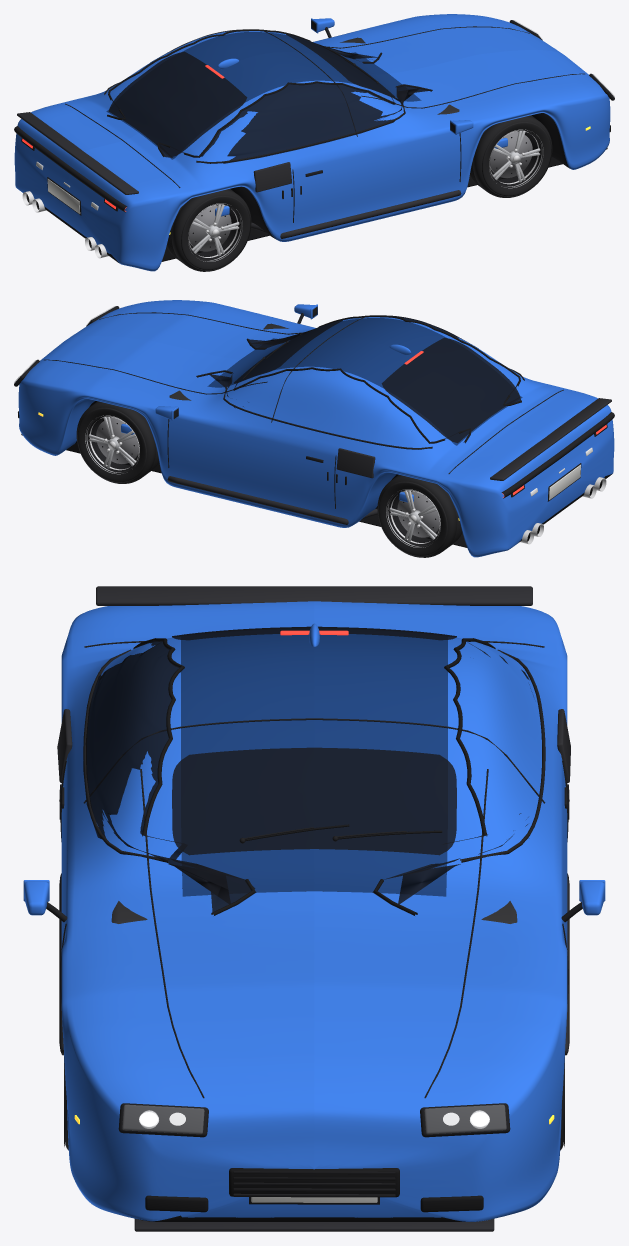
3 views of the same model, one above another, from view 1: azimuth 30°, elevation 25°; view 2: azimuth 150°, elevation 25°; view 3: azimuth 270°, elevation 25° (orthographic). The views are drawn at different scales.
Parts seen in each view (by area): view 1: body, glass_screen_1, glass_side_R, wheel_RR_tyre, wheel_FR_tyre, wing_lip, side_skirt, glass_screen_0, wheel_RR_disc, tail_housing, wheel_FR_disc, side_blade (+7 smaller); view 2: body, glass_screen_1, wheel_RL_tyre, wheel_FL_tyre, wing_lip, side_skirt.001, glass_screen_0, wheel_RL_disc, tail_housing, wheel_FL_disc, side_blade.001, seal_L.001 (+7 smaller); view 3: body, glass_screen_0, glass_side_R, wing_lip, splitter, grille_back, head_housing, head_housing.001, head_lens, head_lens.001, glass_screen_1, glass_side_L (+8 smaller).
Boxes of the visible parts, x1,y1,x2,y2 form: body: [14, 14, 610, 271]; glass_screen_1: [108, 51, 247, 157]; glass_side_R: [160, 82, 430, 163]; wheel_RR_tyre: [166, 189, 251, 271]; wheel_FR_tyre: [469, 115, 552, 197]; wing_lip: [17, 112, 138, 194]; side_skirt: [251, 190, 461, 238]; glass_screen_0: [286, 34, 394, 97]; wheel_RR_disc: [189, 205, 231, 251]; tail_housing: [14, 126, 127, 212]; wheel_FR_disc: [490, 131, 532, 177]; side_blade: [253, 162, 291, 192]; body: [18, 300, 614, 557]; glass_screen_1: [381, 337, 520, 443]; wheel_RL_tyre: [377, 475, 462, 557]; wheel_FL_tyre: [76, 401, 159, 483]; wing_lip: [490, 398, 611, 480]; side_skirt.001: [167, 476, 377, 524]; glass_screen_0: [234, 320, 342, 383]; wheel_RL_disc: [397, 491, 439, 537]; tail_housing: [501, 412, 614, 498]; wheel_FL_disc: [96, 417, 138, 463]; side_blade.001: [336, 448, 375, 478]; seal_L.001: [233, 367, 445, 443]; body: [61, 601, 567, 1221]; glass_screen_0: [172, 747, 456, 855]; glass_side_R: [83, 640, 255, 913]; wing_lip: [96, 586, 532, 605]; splitter: [134, 1219, 494, 1231]; grille_back: [229, 1168, 399, 1197]; head_housing: [118, 1103, 208, 1137]; head_housing.001: [420, 1103, 510, 1137]; head_lens: [122, 1104, 204, 1133]; head_lens.001: [424, 1104, 506, 1133]; glass_screen_1: [172, 626, 456, 640]; glass_side_L: [384, 641, 533, 904].
Size of the model in its own units: 4.49 by 1.25 by 2.22.
